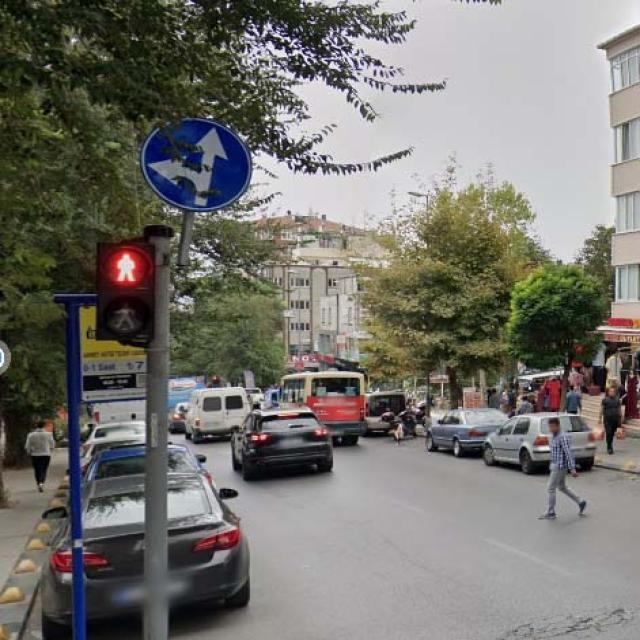ilerisol: (142, 119, 252, 211)
